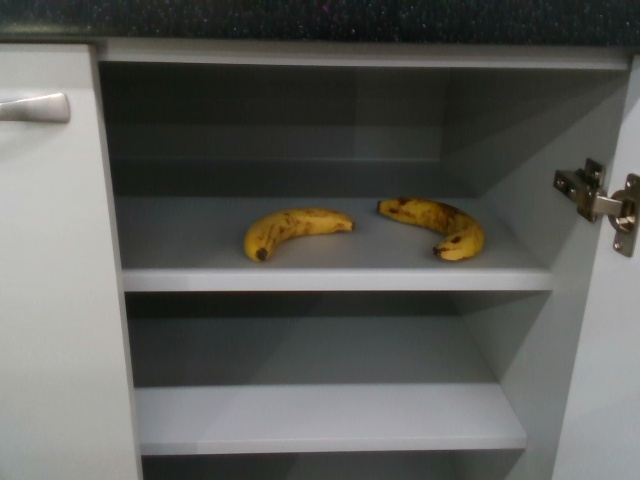banana: (376, 197, 487, 261), (241, 206, 354, 262)
